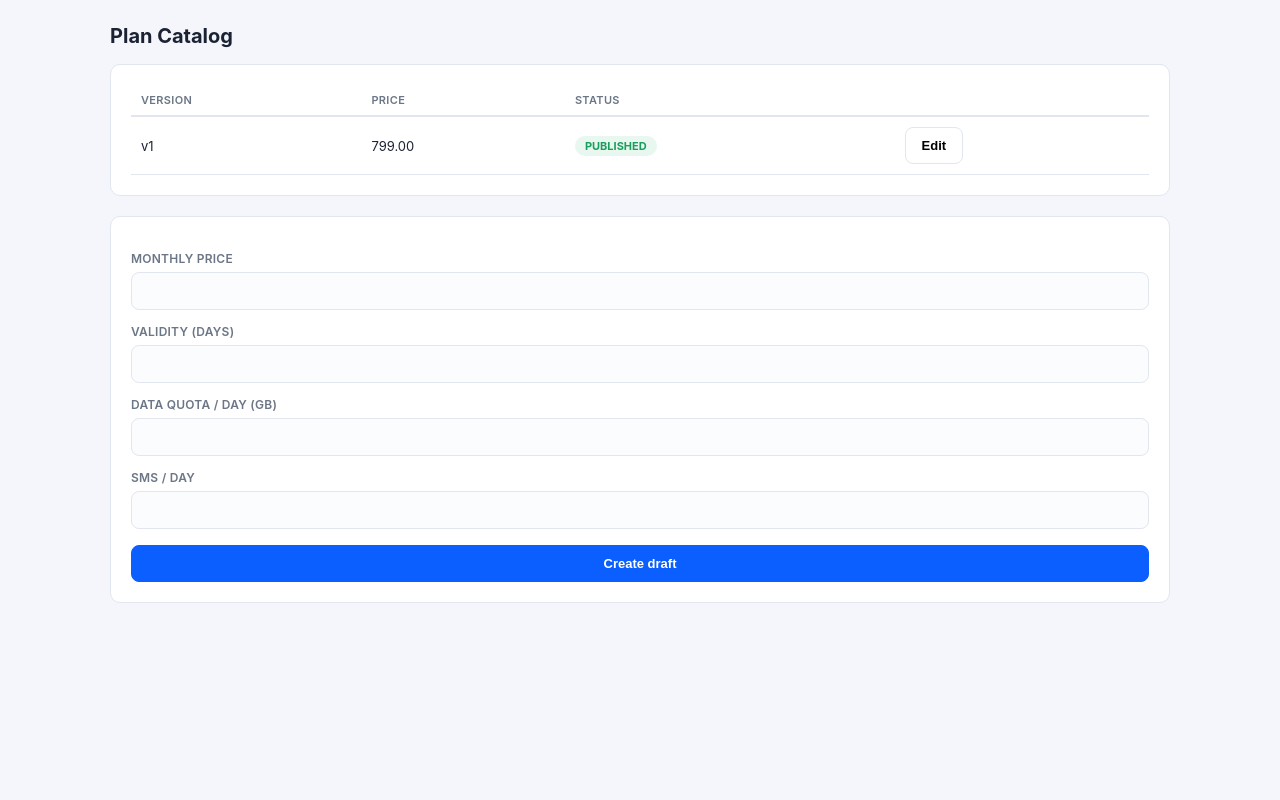
Scenario: AdminPlanCatalogPage › prefills the draft form from the published version's fields (AC-2)
Click the button "Edit" at (934, 146), box [905, 127, 963, 164]
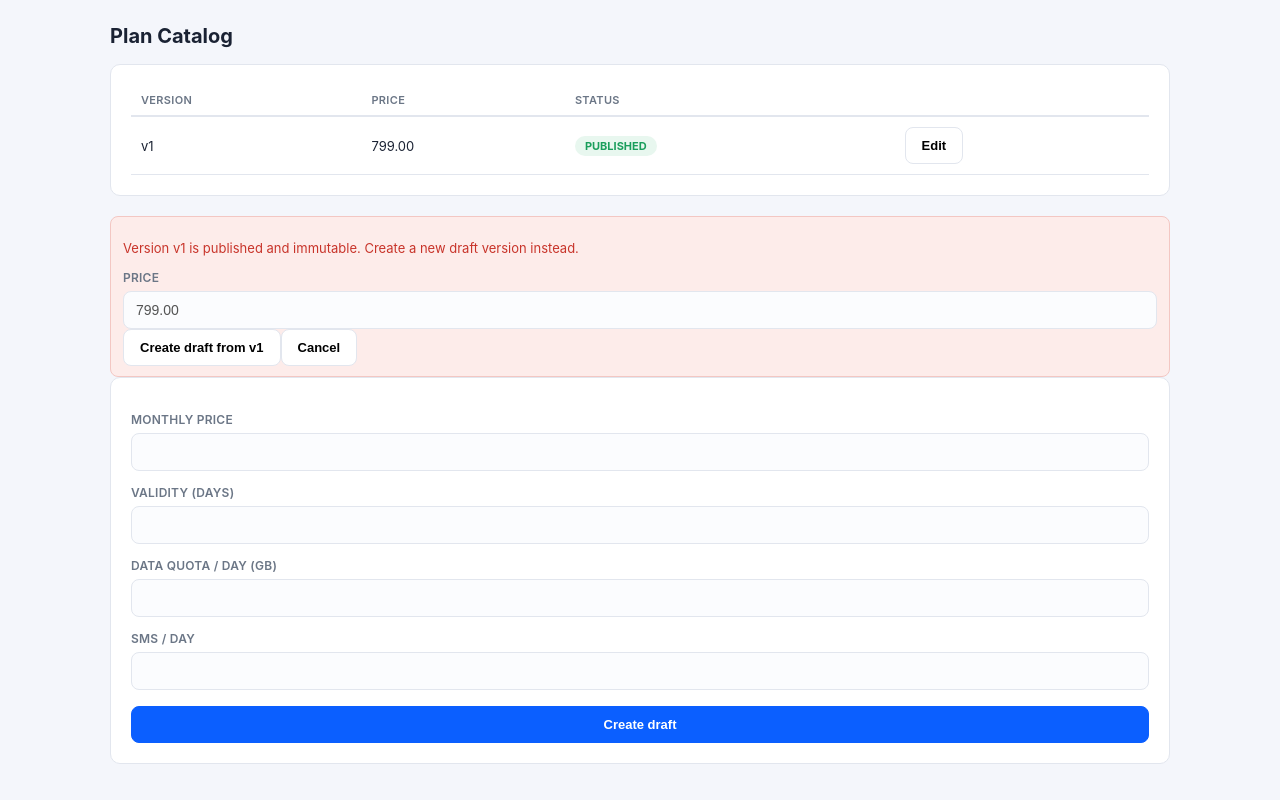
Click the button "Create draft from v1" at (202, 348), box [123, 329, 280, 366]
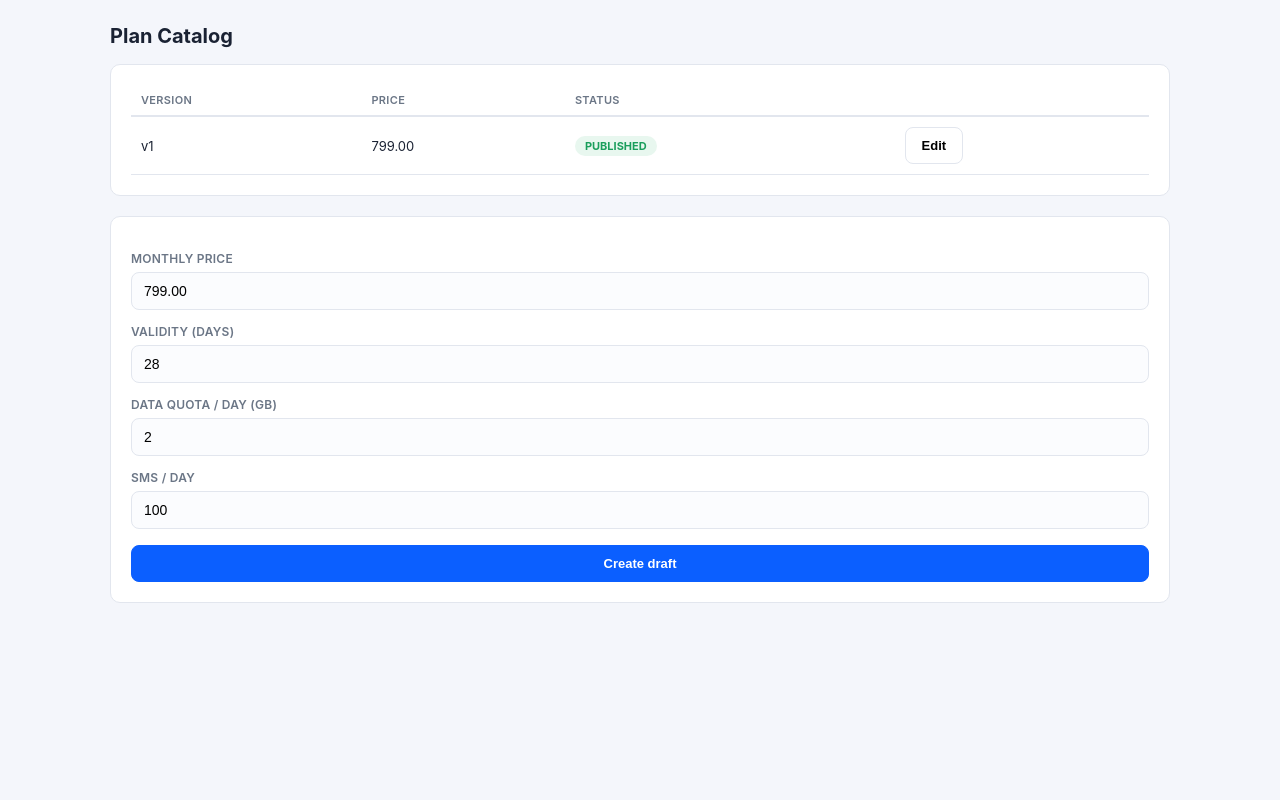
Expected: the field labelled "Monthly price" holds "799.00", [131, 272, 1149, 310]
Expected: the number field labelled "Validity (days)" holds "28", [131, 345, 1149, 383]
Expected: the number field labelled "Data quota / day (GB)" holds "2", [131, 418, 1149, 456]
